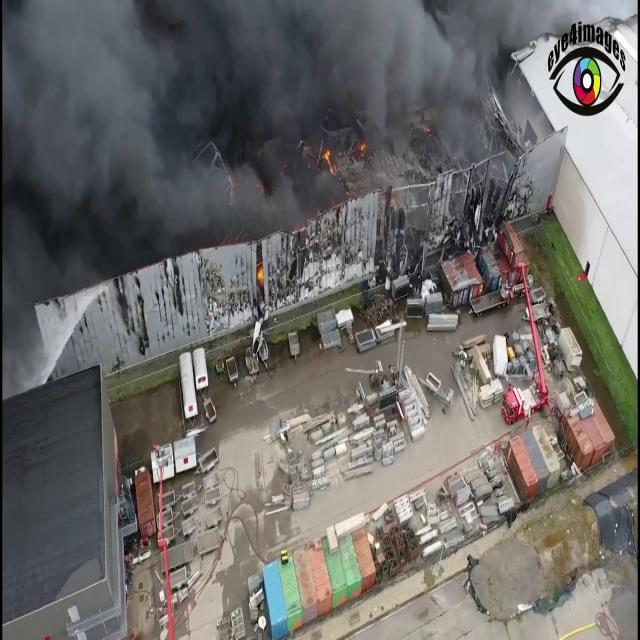Smoke: (3, 0, 375, 249), (366, 0, 519, 183)
